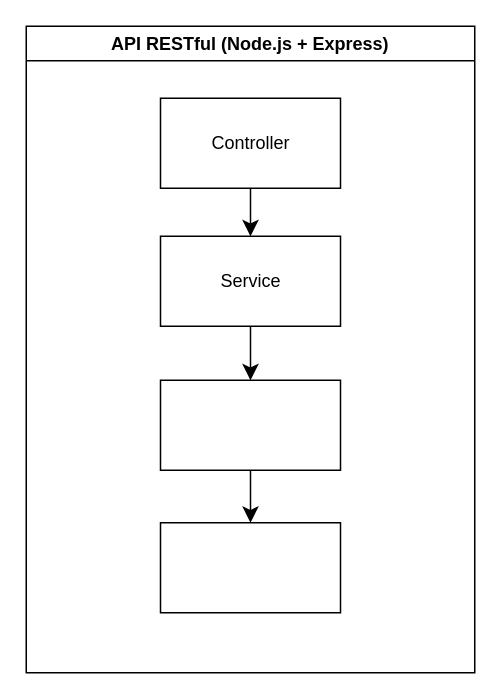
The diagram is 501 pixels wide and 699 high, and some of its shapes have lost their labels. The shapes that lost their labels are listed below. From the top down, each one's centre as x and y in pixels, then its label:
the point at 249,424: Repository
the point at 249,567: Prisma Client
